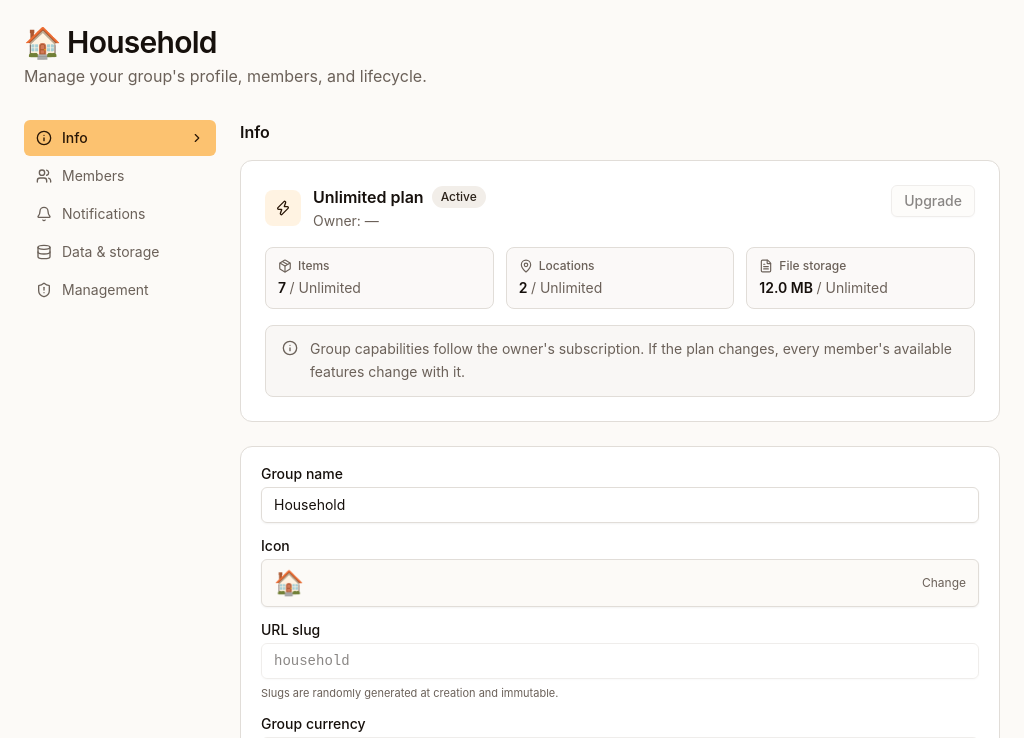
Test: <GroupSettingsPage /> › disables Leave for the last owner
Click the button with test id "group-settings-nav-members".
click(120, 176)  # box x1=24 y1=158 x2=216 y2=194
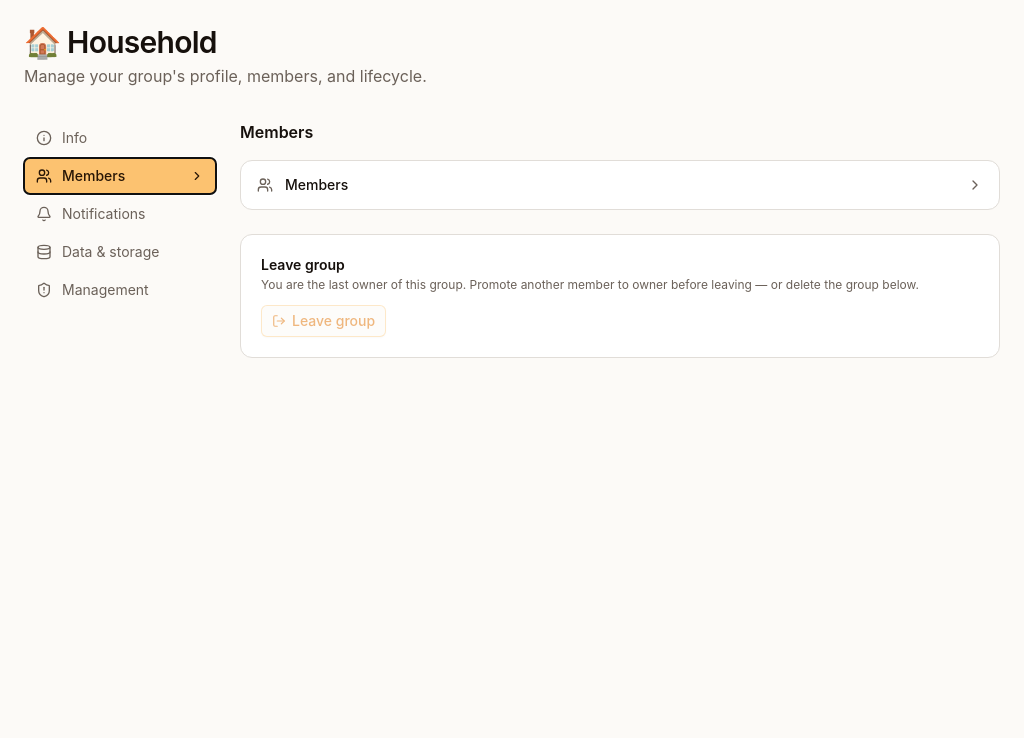
Result: the button with test id "leave-group-btn" is disabled at x1=261 y1=305 x2=386 y2=337
